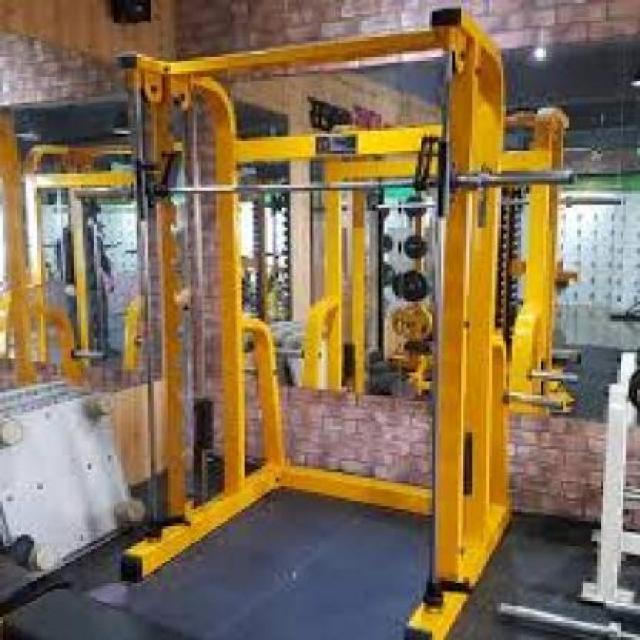smith machine: (110, 11, 508, 640)
